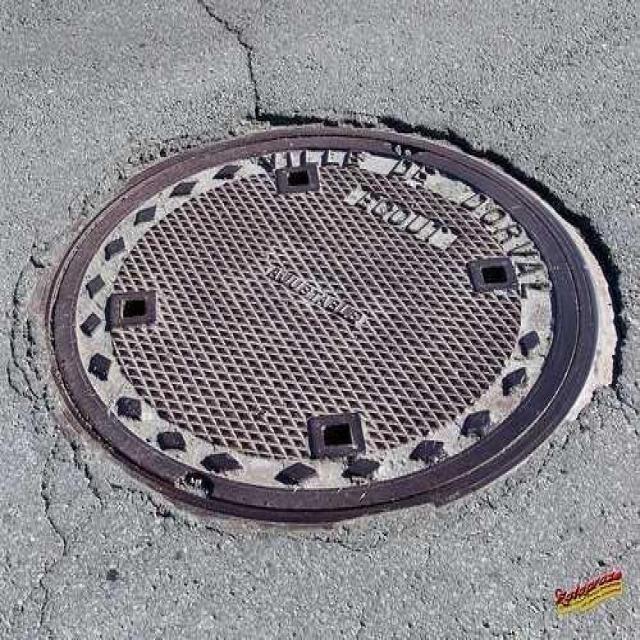manhole: (46, 127, 598, 522)
